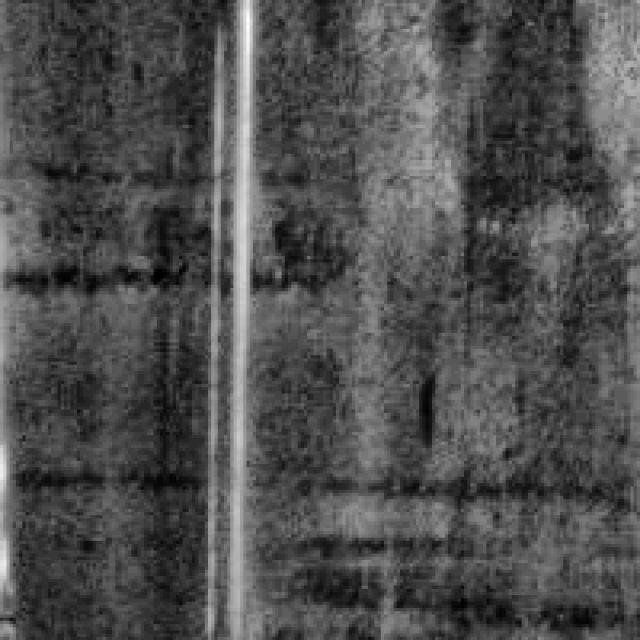Inclusion: (192, 0, 256, 624)
